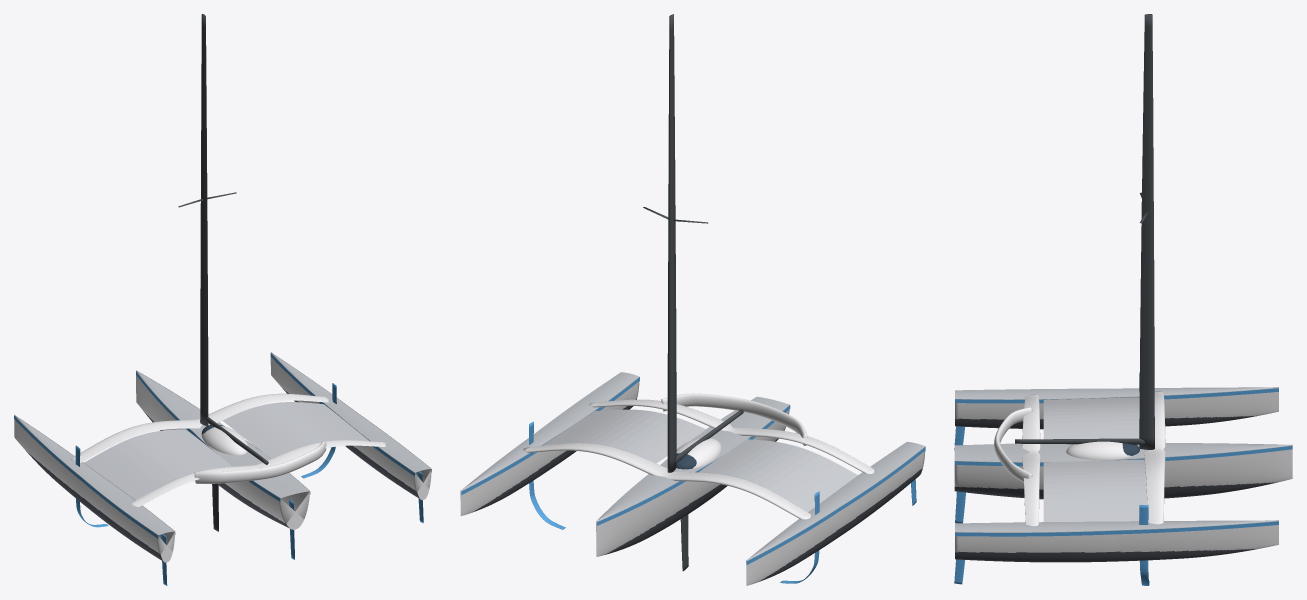
File: ocean_fifty.glb
3 views of the same model, side by side, from view 1: azimuth 30°, elevation 25°; view 2: azimuth 150°, elevation 25°; view 3: azimuth 270°, elevation 25° (orthographic). The views are drawn at different scales.
Visible parts, largest first — view 1: filet, filet.001, flotteur_coque, pivot_mat, centrale_coque, centrale_pont, bras, flotteur_pont, flotteur_pont.001, flotteur_coque.001, bras.001, bras_courbe (+3 smaller); view 2: filet, filet.001, flotteur_coque, pivot_mat, centrale_coque, bras, centrale_pont, flotteur_coque.001, flotteur_pont, flotteur_pont.001, bras.001, bras_courbe (+5 smaller); view 3: flotteur_coque.001, filet.001, centrale_coque, pivot_mat, flotteur_coque, filet, centrale_pont, flotteur_fond.001, flotteur_pont.001, flotteur_pont, bras, bras.001 (+8 smaller).
Boxes of the visible parts, x1=… form: filet: x1=84, y1=429, x2=232, y2=499; filet.001: x1=222, y1=402, x2=369, y2=458; flotteur_coque: x1=14, y1=416, x2=175, y2=562; pivot_mat: x1=200, y1=14, x2=208, y2=426; centrale_coque: x1=136, y1=371, x2=309, y2=529; centrale_pont: x1=136, y1=370, x2=309, y2=498; bras: x1=70, y1=393, x2=328, y2=462; flotteur_pont: x1=14, y1=414, x2=174, y2=535; flotteur_pont.001: x1=271, y1=352, x2=431, y2=472; flotteur_coque.001: x1=270, y1=353, x2=431, y2=500; bras.001: x1=130, y1=440, x2=385, y2=506; bras_courbe: x1=194, y1=441, x2=326, y2=483; filet: x1=698, y1=439, x2=857, y2=511; filet.001: x1=543, y1=409, x2=705, y2=463; flotteur_coque: x1=746, y1=442, x2=925, y2=585; pivot_mat: x1=667, y1=14, x2=676, y2=472; centrale_coque: x1=596, y1=396, x2=789, y2=556; bras: x1=523, y1=443, x2=810, y2=519; centrale_pont: x1=596, y1=396, x2=789, y2=521; flotteur_coque.001: x1=460, y1=372, x2=639, y2=515; flotteur_pont: x1=746, y1=442, x2=924, y2=560; flotteur_pont.001: x1=461, y1=372, x2=639, y2=490; bras.001: x1=589, y1=399, x2=874, y2=473; bras_courbe: x1=661, y1=393, x2=808, y2=445; flotteur_coque.001: x1=955, y1=520, x2=1278, y2=552; filet.001: x1=1043, y1=459, x2=1147, y2=521; centrale_coque: x1=954, y1=443, x2=1292, y2=489; pivot_mat: x1=1139, y1=14, x2=1154, y2=449; flotteur_coque: x1=955, y1=387, x2=1278, y2=419; filet: x1=1043, y1=397, x2=1139, y2=439; centrale_pont: x1=954, y1=443, x2=1292, y2=462; flotteur_fond.001: x1=955, y1=549, x2=1256, y2=562; flotteur_pont.001: x1=955, y1=520, x2=1278, y2=532; flotteur_pont: x1=955, y1=387, x2=1278, y2=399; bras: x1=1144, y1=391, x2=1165, y2=524; bras.001: x1=1022, y1=394, x2=1040, y2=526.
Size of the model in its own units: 32.11 by 56.22 by 32.02.
